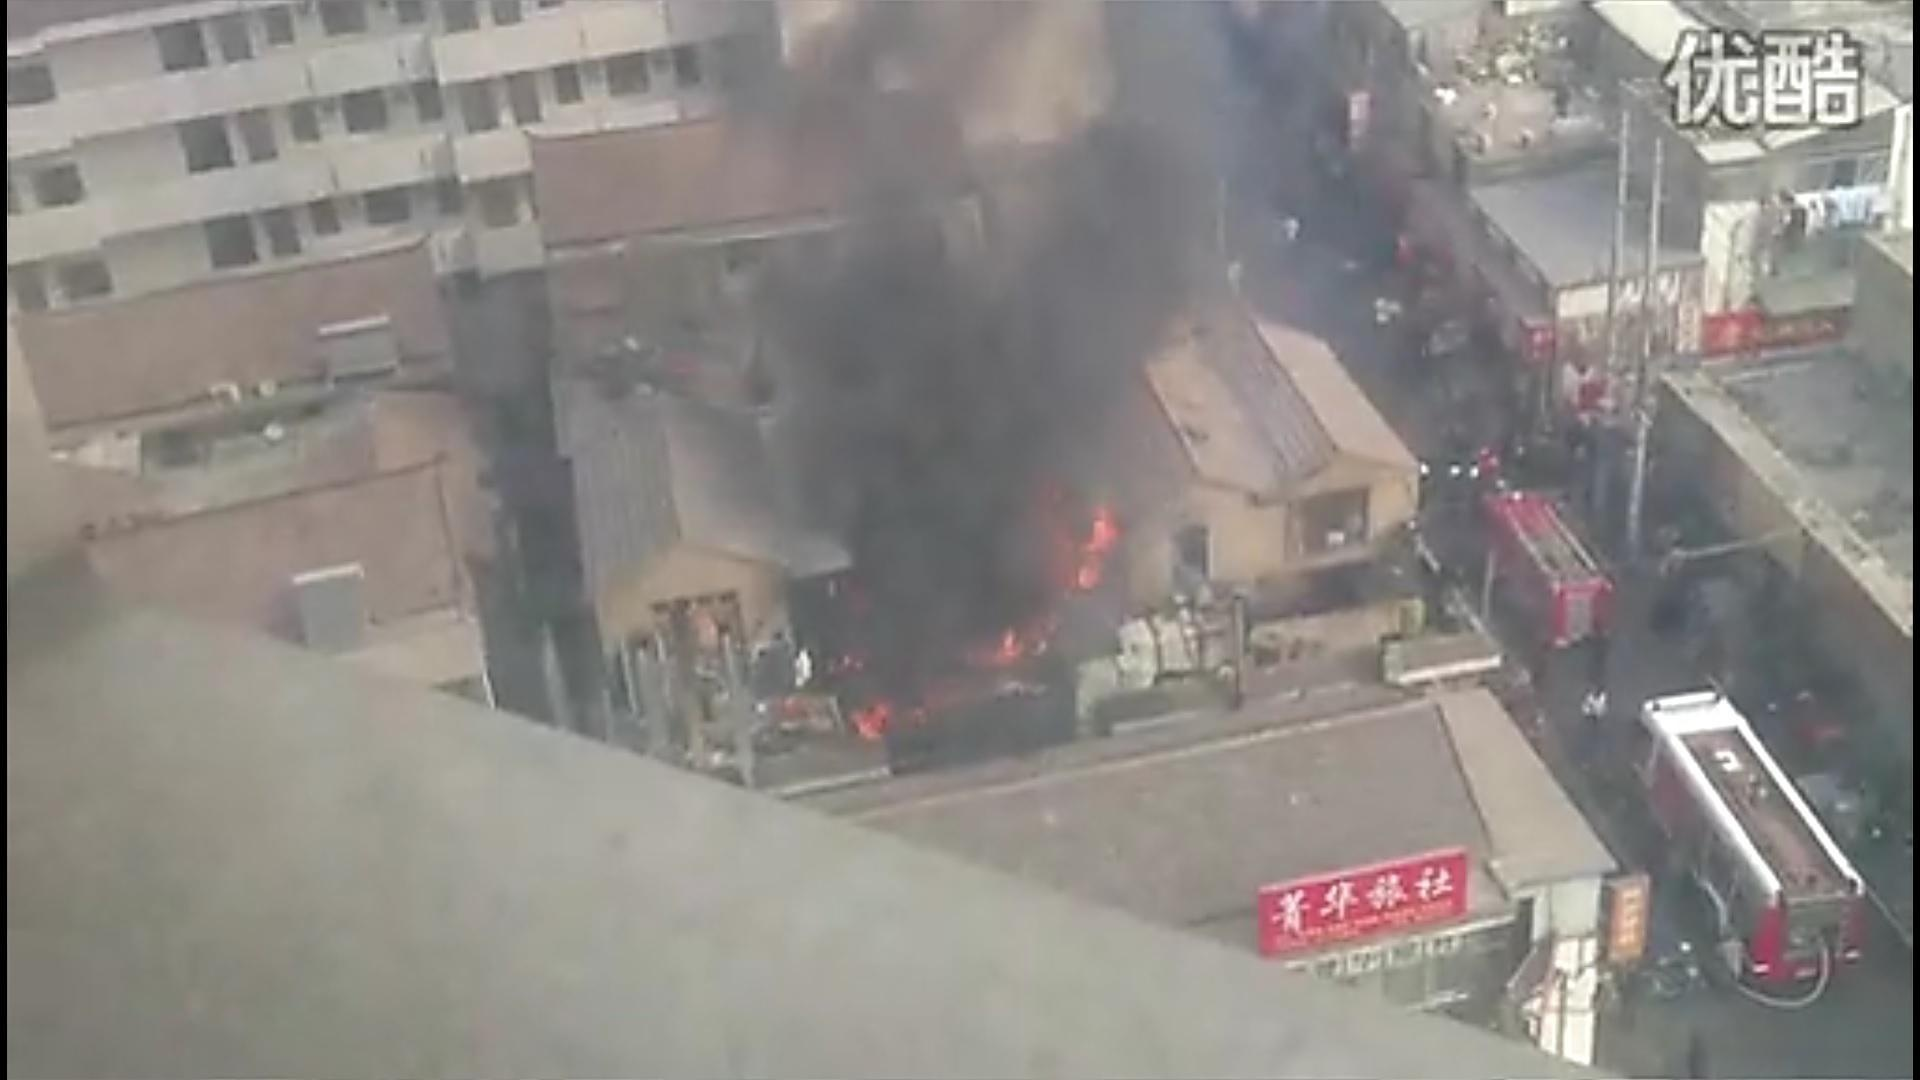fire: (1062, 504, 1120, 588), (848, 698, 898, 740), (988, 625, 1039, 665)
